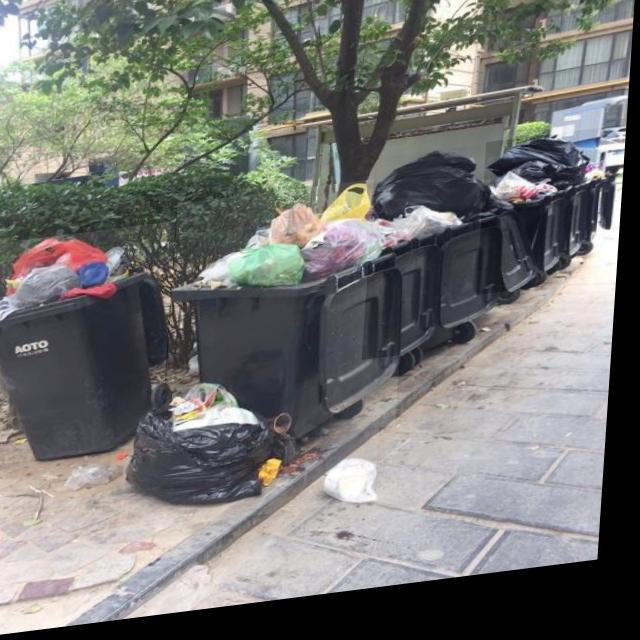garbage: (127, 369, 389, 536)
overflow: (168, 186, 416, 460), (0, 226, 179, 468), (368, 155, 514, 370), (481, 142, 624, 308)
